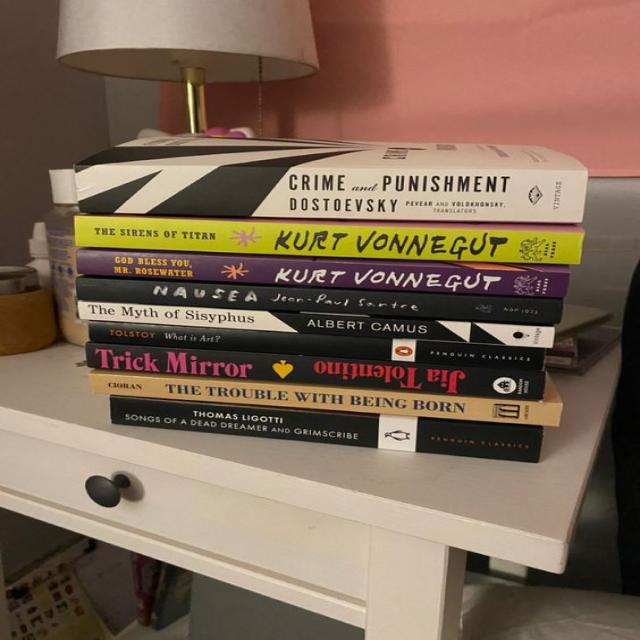book: (76, 136, 587, 225), (110, 397, 542, 460), (76, 249, 569, 304), (91, 369, 559, 426), (86, 343, 544, 400), (89, 323, 544, 379), (75, 215, 583, 264), (78, 300, 554, 349), (78, 278, 562, 324)
